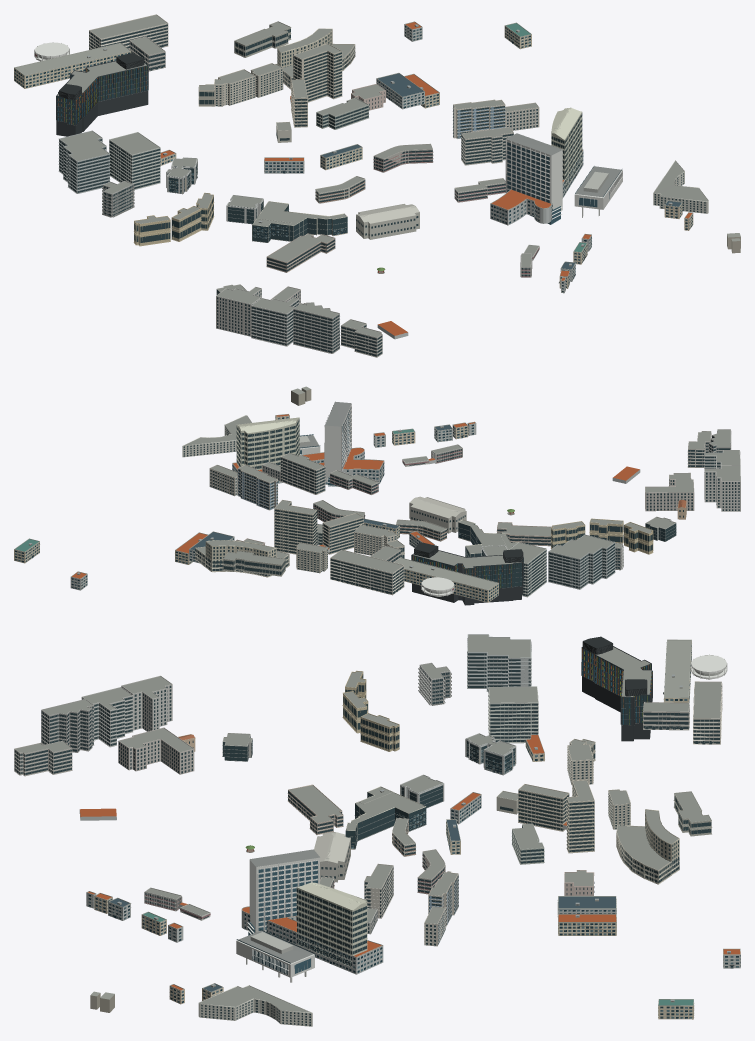
Rendered from zone_2_2-medium.glb.
3 renders of one model, top to bottom at view 1: azimuth 30°, elevation 25°; view 2: azimuth 150°, elevation 25°; view 3: azimuth 270°, elevation 25°, orthographic. The views are drawn at different scales.
Parts seen in each view (by area): view 1: web_building_107139044, web_building_201907981, web_building_135312912, web_building_230129212, web_building_135311808, web_building_134410451, web_building_174133698, web_building_135181545, web_building_138223977, web_building_2712284, web_building_134410448, web_building_923320403 (+28 smaller); view 2: web_building_107139044, web_building_135312912, web_building_201907994, web_building_134410448, web_building_174133698, web_building_134410451, web_building_201907981, web_building_138223979, web_building_135156235, web_building_135021155, web_building_135018853, web_building_923320403 (+28 smaller); view 3: web_building_107139044, web_building_201907994, web_building_201907981, web_building_135312912, web_building_135906003, web_building_135311808, web_building_230129212, web_building_135156235, web_building_2712284, web_building_201907977, web_building_135181545, web_building_230185998 (+33 smaller).
Part boxes in pixels (x1,y1,x2,y2): web_building_107139044: (56, 53, 148, 136); web_building_201907981: (503, 133, 562, 224); web_building_135312912: (58, 130, 110, 193); web_building_230129212: (252, 201, 347, 242); web_building_135311808: (109, 132, 160, 189); web_building_134410451: (14, 43, 131, 88); web_building_174133698: (293, 43, 342, 102); web_building_135181545: (293, 302, 340, 353); web_building_138223977: (251, 297, 299, 346); web_building_2712284: (490, 149, 583, 225); web_building_134410448: (89, 14, 168, 49); web_building_923320403: (356, 203, 419, 239); web_building_107139044: (411, 542, 523, 605); web_building_135312912: (548, 534, 615, 589); web_building_201907994: (236, 417, 299, 469); web_building_134410448: (330, 549, 404, 595); web_building_174133698: (274, 499, 317, 554); web_building_134410451: (394, 557, 498, 602); web_building_201907981: (324, 401, 351, 486); web_building_138223979: (704, 465, 740, 511); web_building_135156235: (645, 472, 694, 511); web_building_135021155: (280, 452, 325, 494); web_building_135018853: (237, 464, 278, 510); web_building_923320403: (409, 496, 466, 533); web_building_107139044: (581, 636, 652, 741); web_building_201907994: (296, 882, 367, 967); web_building_201907981: (247, 849, 319, 935); web_building_135312912: (467, 634, 531, 691); web_building_135906003: (198, 985, 312, 1026); web_building_135311808: (488, 686, 538, 743); web_building_230129212: (345, 786, 426, 849); web_building_135156235: (118, 727, 194, 774); web_building_2712284: (241, 906, 383, 974); web_building_201907977: (236, 929, 314, 982); web_building_135181545: (41, 699, 94, 752); web_building_230185998: (616, 825, 679, 884).
Size of the model in its own units: 589 by 114 by 608.
